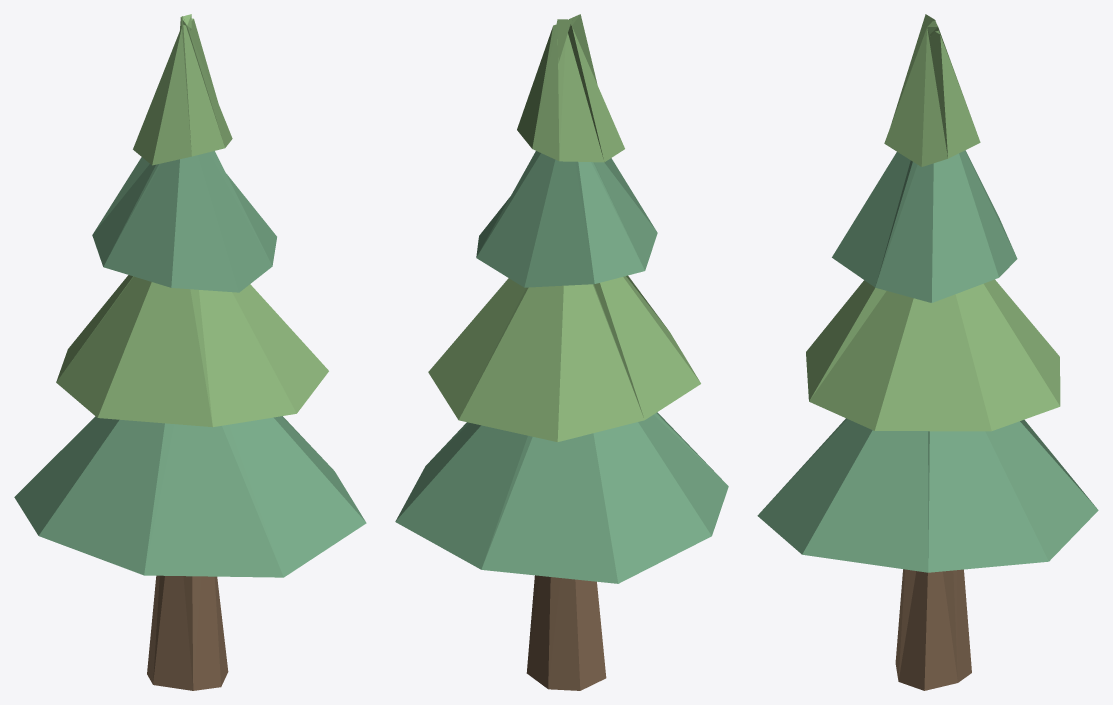
File: TreePine.fbx
3 views of the same model, side by side, from view 1: azimuth 30°, elevation 25°; view 2: azimuth 150°, elevation 25°; view 3: azimuth 270°, elevation 25° (orthographic).
Visible parts, largest first — view 1: TreePine_fbx; view 2: TreePine_fbx; view 3: TreePine_fbx.
Boxes of the visible parts, left/top/right/bottom form: TreePine_fbx: left=14, top=14, right=366, bottom=690; TreePine_fbx: left=395, top=14, right=728, bottom=690; TreePine_fbx: left=757, top=14, right=1098, bottom=690.
Bounding box in the file's own units: 1.82 × 3.96 × 1.87.
